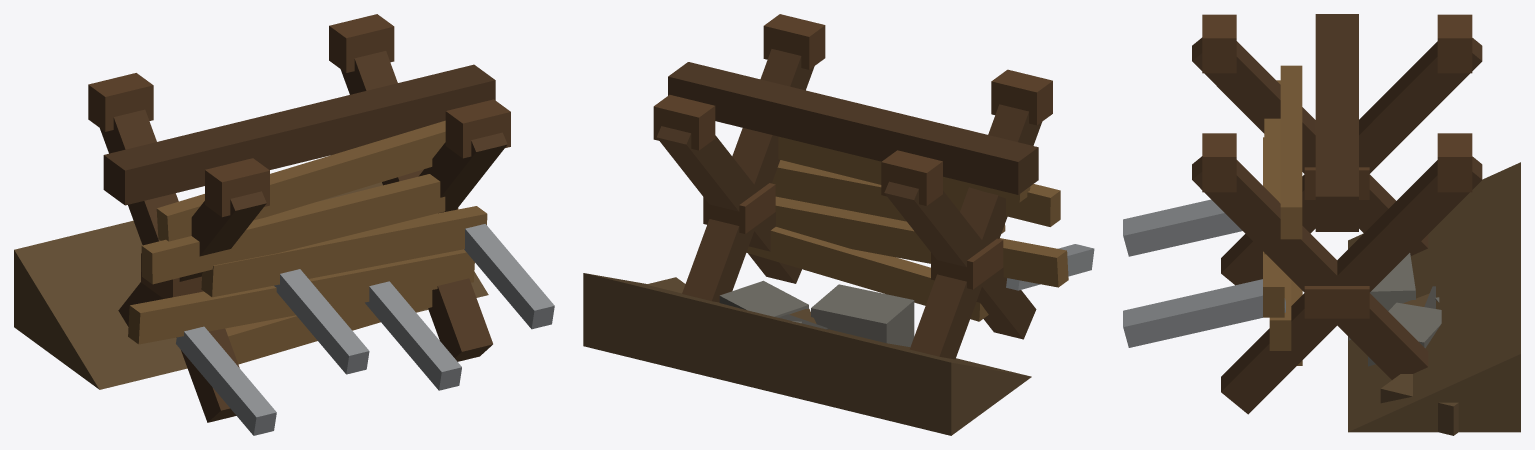
Rendered from barricade.glb.
3 renders of one model, left to right at view 1: azimuth 30°, elevation 25°; view 2: azimuth 150°, elevation 25°; view 3: azimuth 270°, elevation 25°, orthographic. The views are drawn at different scales.
Parts seen in each view (by area): view 1: timber_light, timber, dirt, steel, leather; view 2: timber, dirt, timber_light, leather, stone, steel; view 3: timber, dirt, leather, steel, timber_light, stone.
Part boxes in pixels (left/top/right/bottom): timber_light: left=128, top=120, right=487, bottom=364; timber: left=100, top=51, right=507, bottom=422; dirt: left=14, top=182, right=488, bottom=389; steel: left=176, top=224, right=554, bottom=435; leather: left=88, top=14, right=510, bottom=298; timber: left=656, top=49, right=1041, bottom=359; dirt: left=583, top=273, right=1031, bottom=435; timber_light: left=746, top=136, right=1068, bottom=321; leather: left=653, top=14, right=1052, bottom=289; stone: left=719, top=280, right=914, bottom=347; steel: left=911, top=227, right=1094, bottom=290; timber: left=1192, top=14, right=1482, bottom=414; dirt: left=1348, top=162, right=1520, bottom=435; leather: left=1202, top=14, right=1472, bottom=318; steel: left=1123, top=199, right=1285, bottom=347; timber_light: left=1263, top=65, right=1302, bottom=365; stone: left=1348, top=253, right=1441, bottom=366.
Size of the model in its own units: 42.83 by 26.74 by 36.82.
